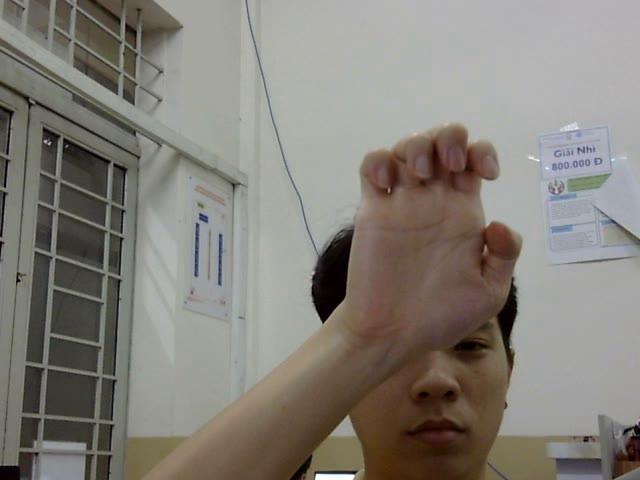E: (345, 121, 524, 341)
